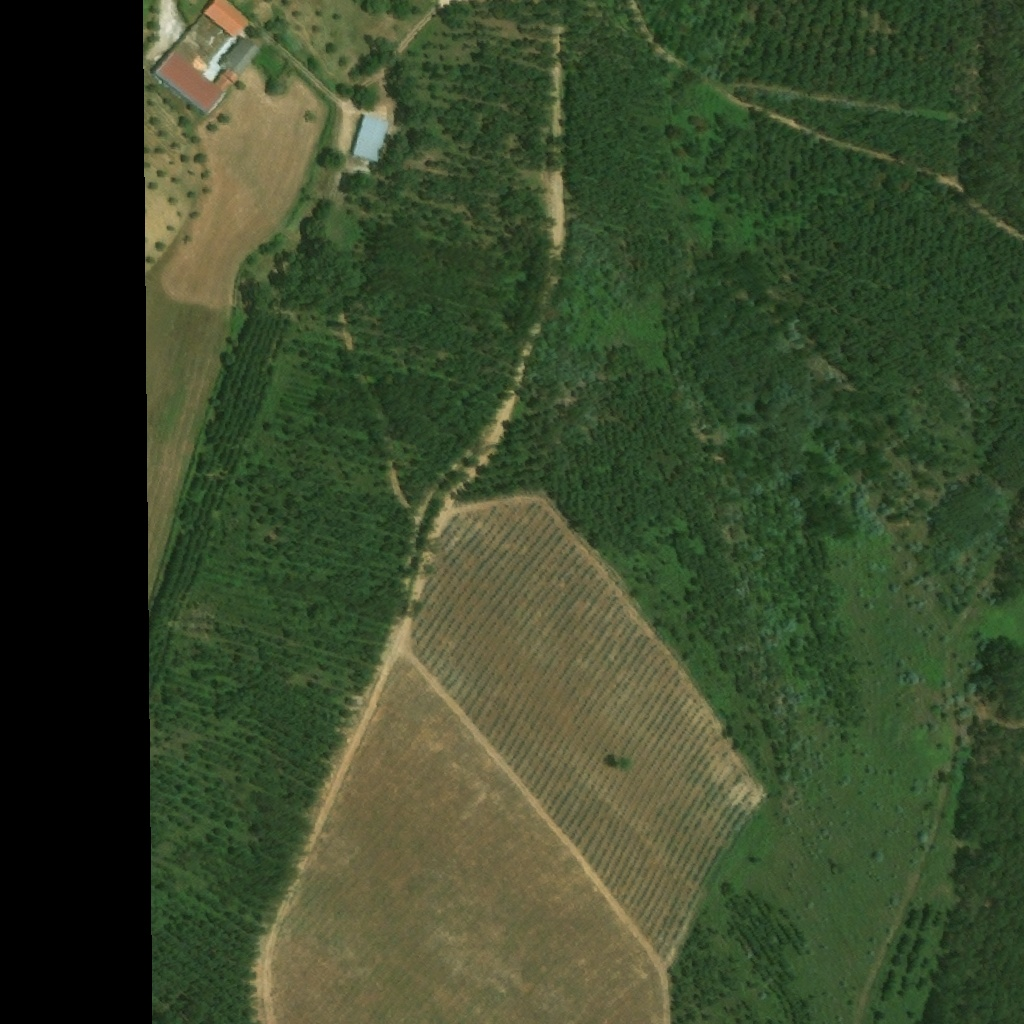0 no-damage: (151, 36, 262, 118), (352, 115, 390, 164), (202, 0, 250, 36)
